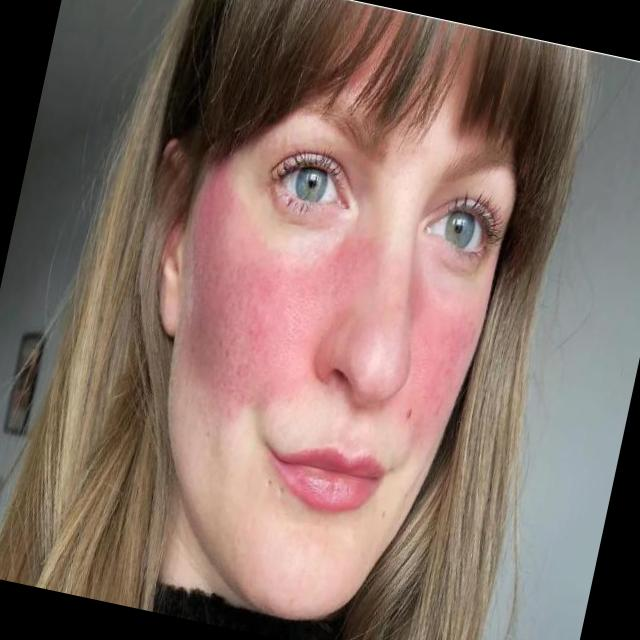skinredness: (169, 227, 328, 426), (397, 292, 483, 442)
